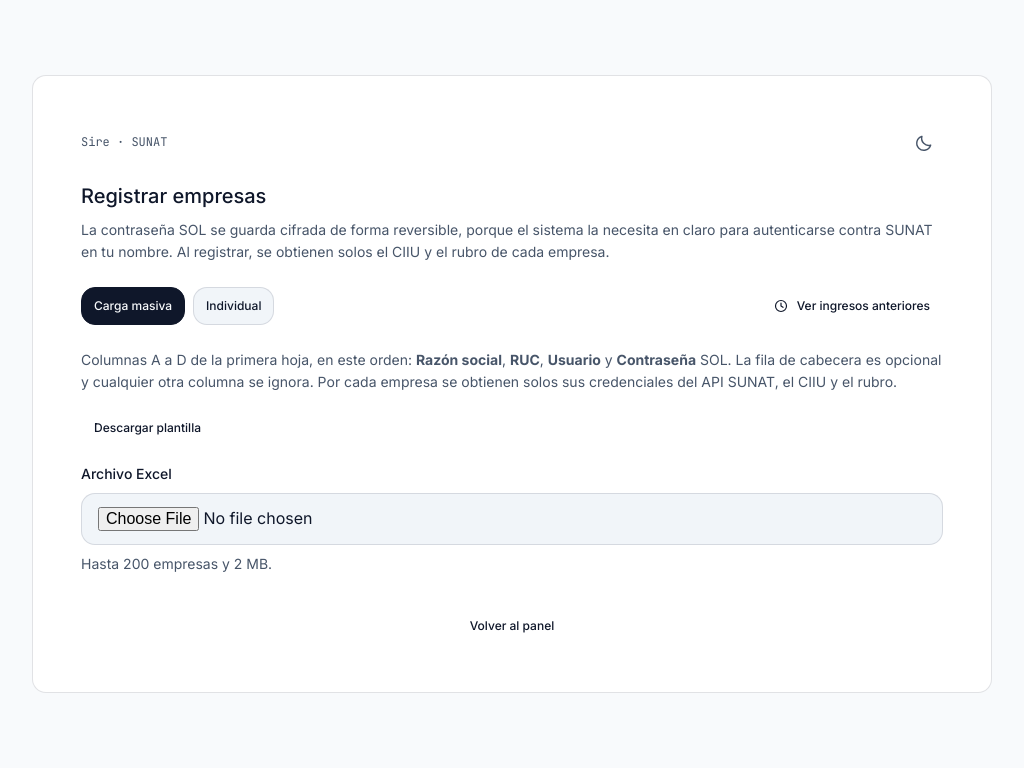
Scenario: alta de empresa › rechaza en el navegador un RUC con dígito verificador incorrecto
Click the button "Individual": (234, 306) [193, 287, 274, 325]
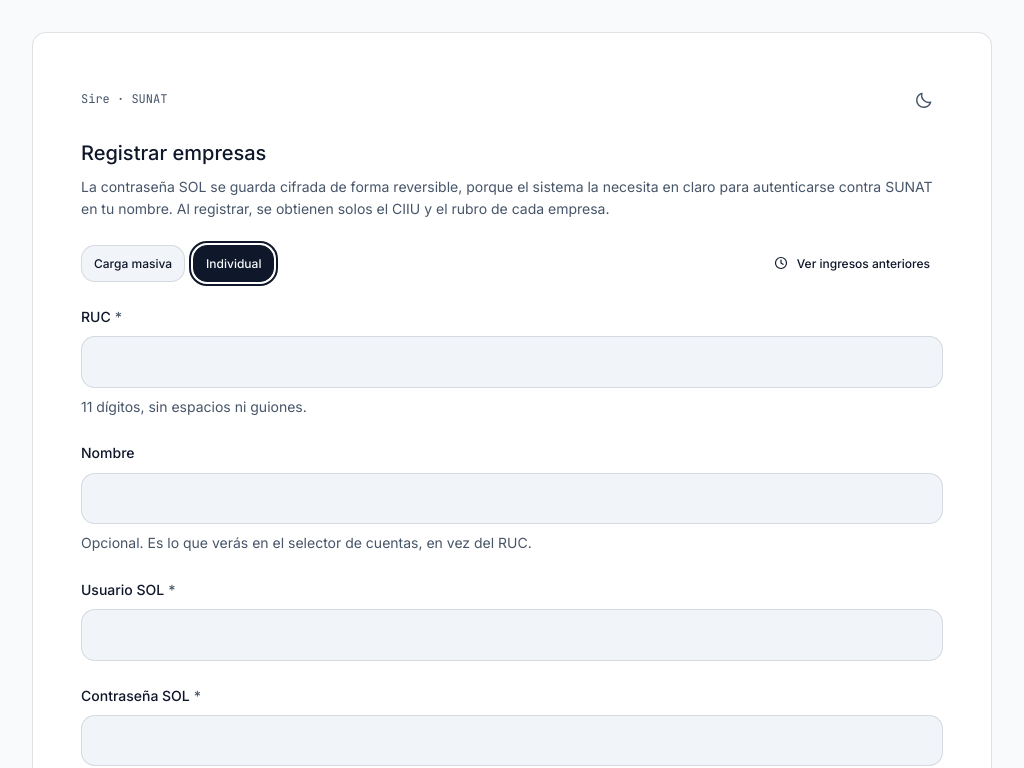
In the field labelled "RUC*": (512, 362) [81, 336, 943, 388], type "20123456789"
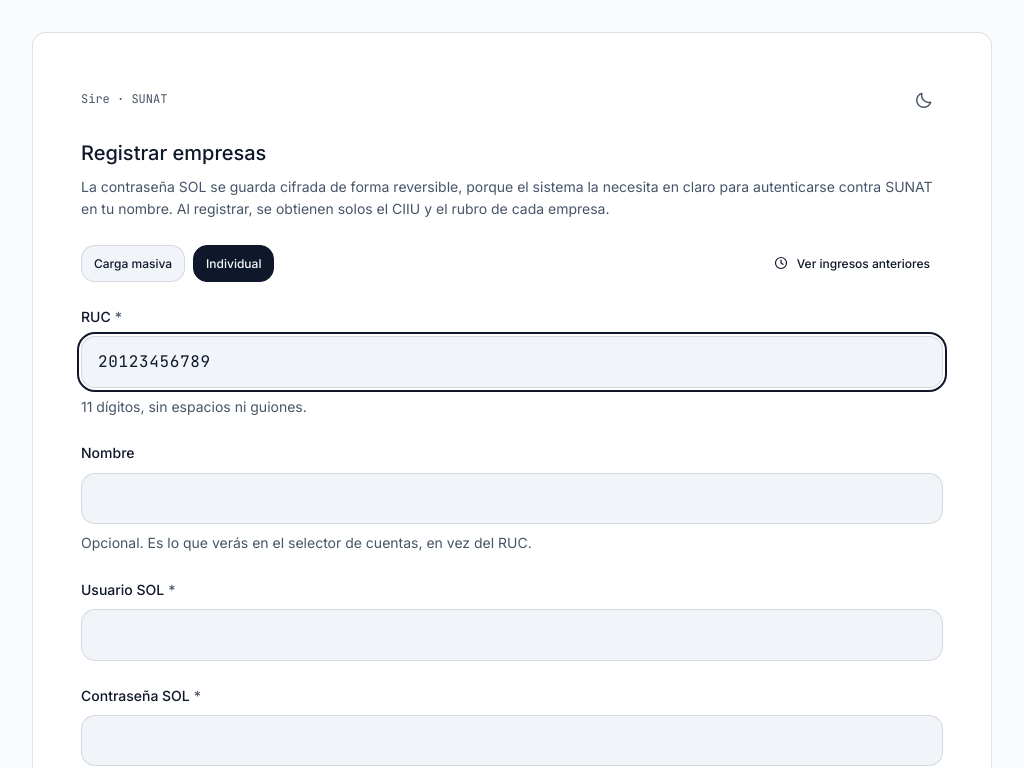
In the field labelled "Usuario SOL*": (512, 635) [81, 609, 943, 660], type "USUARIO"
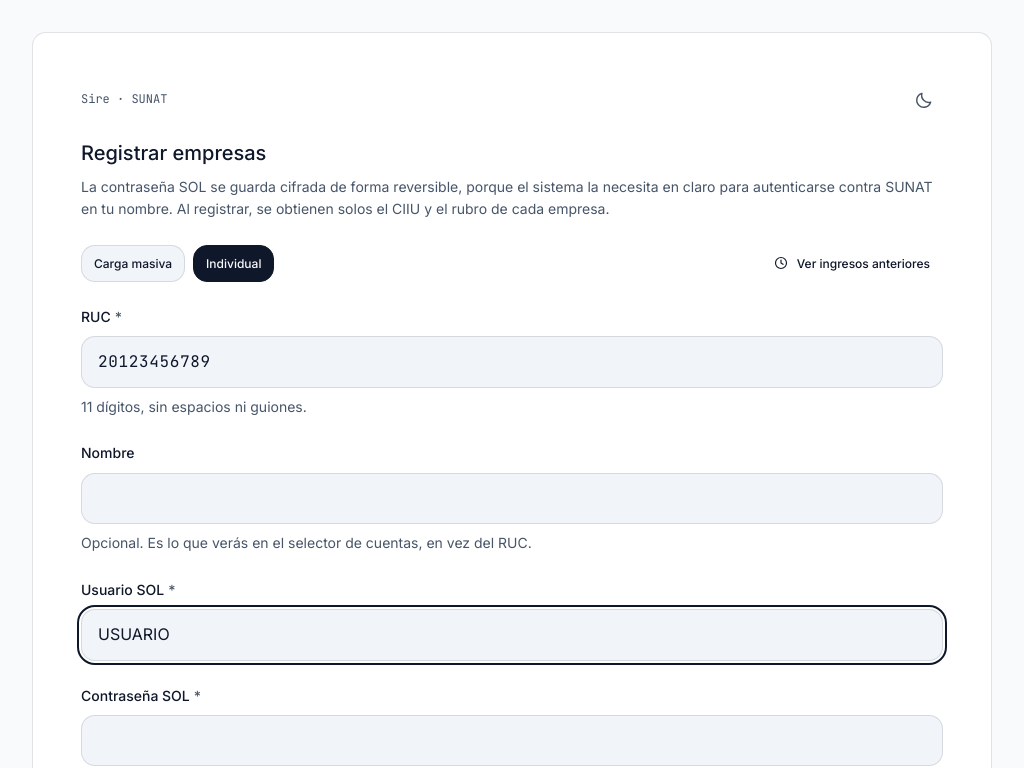
In the password field labelled "Contraseña SOL*": (512, 741) [81, 715, 943, 766], type "clave"
(page scrolled)
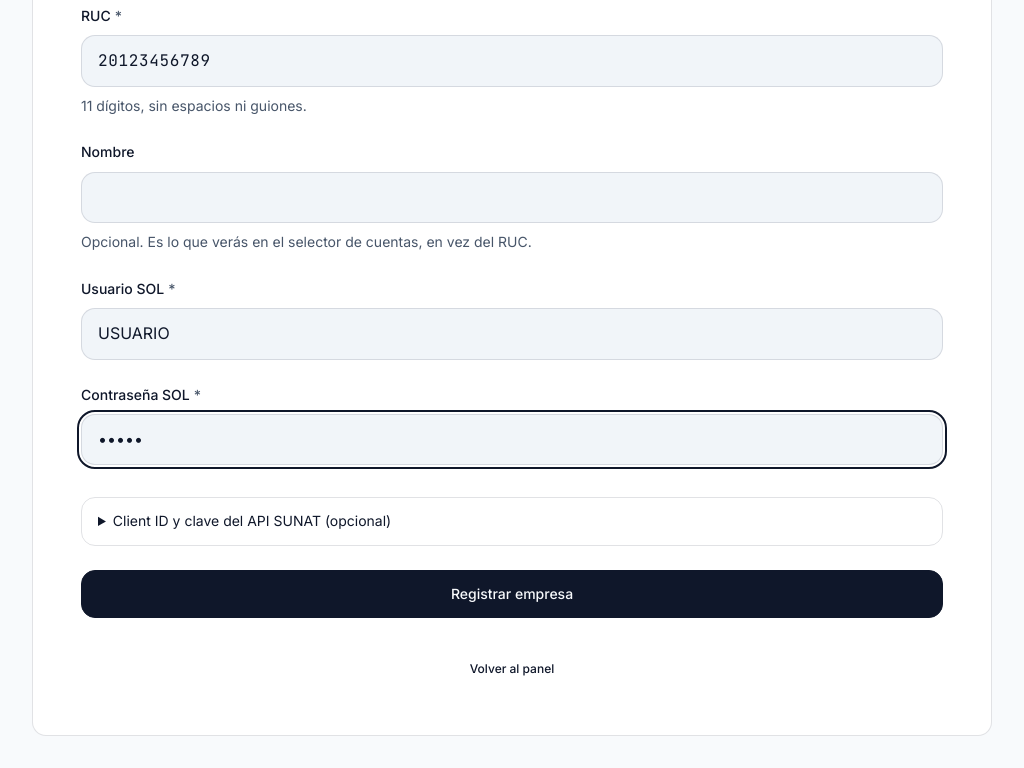
Click the button "Registrar empresa": (512, 594) [81, 570, 943, 618]
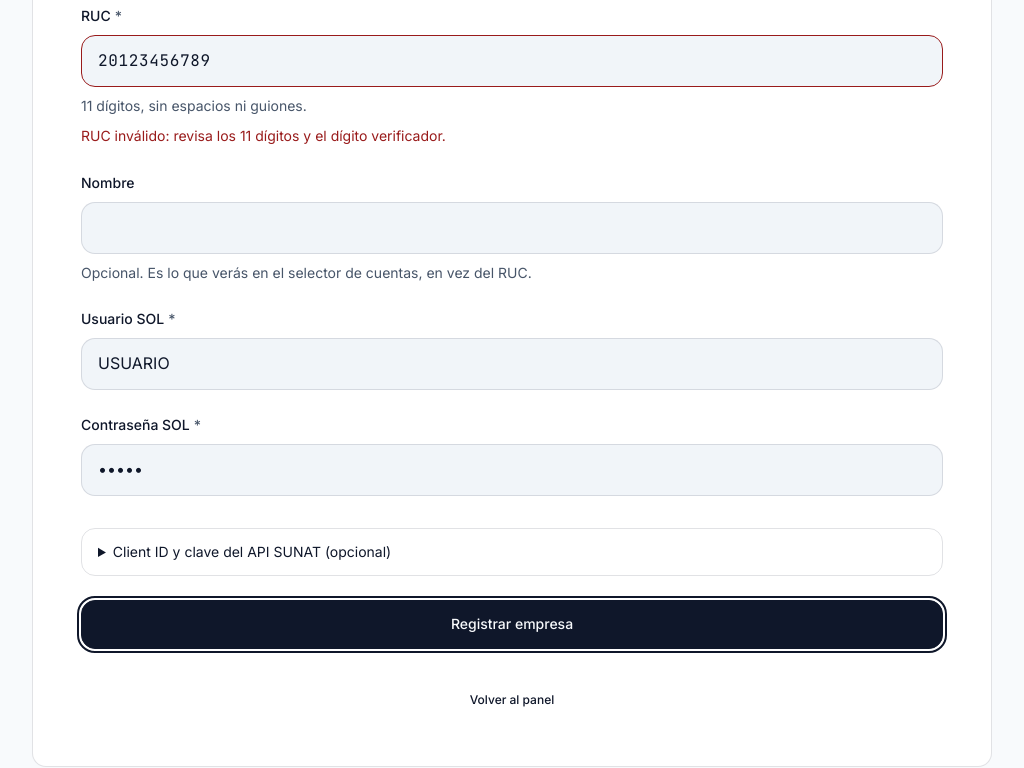
Expected: the text "RUC inválido: revisa los 11 dígitos y el dígito verificador." is shown, [81, 127, 446, 144]
